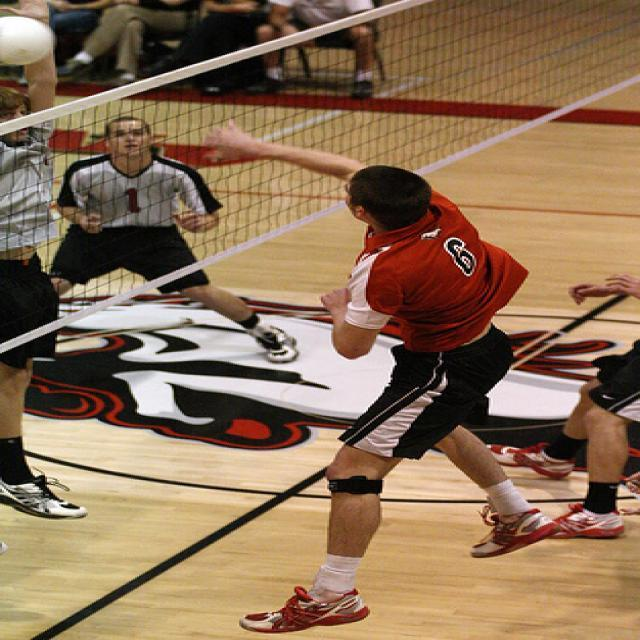volleyball: (0, 17, 52, 65)
